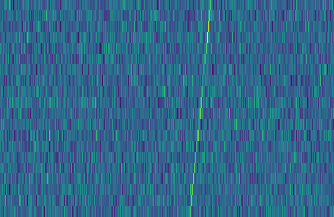signal: (185, 0, 216, 217)
